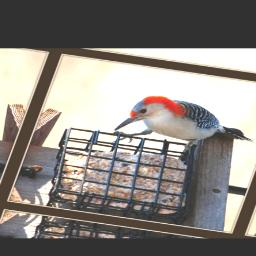Woodpecker: (110, 91, 256, 161)
